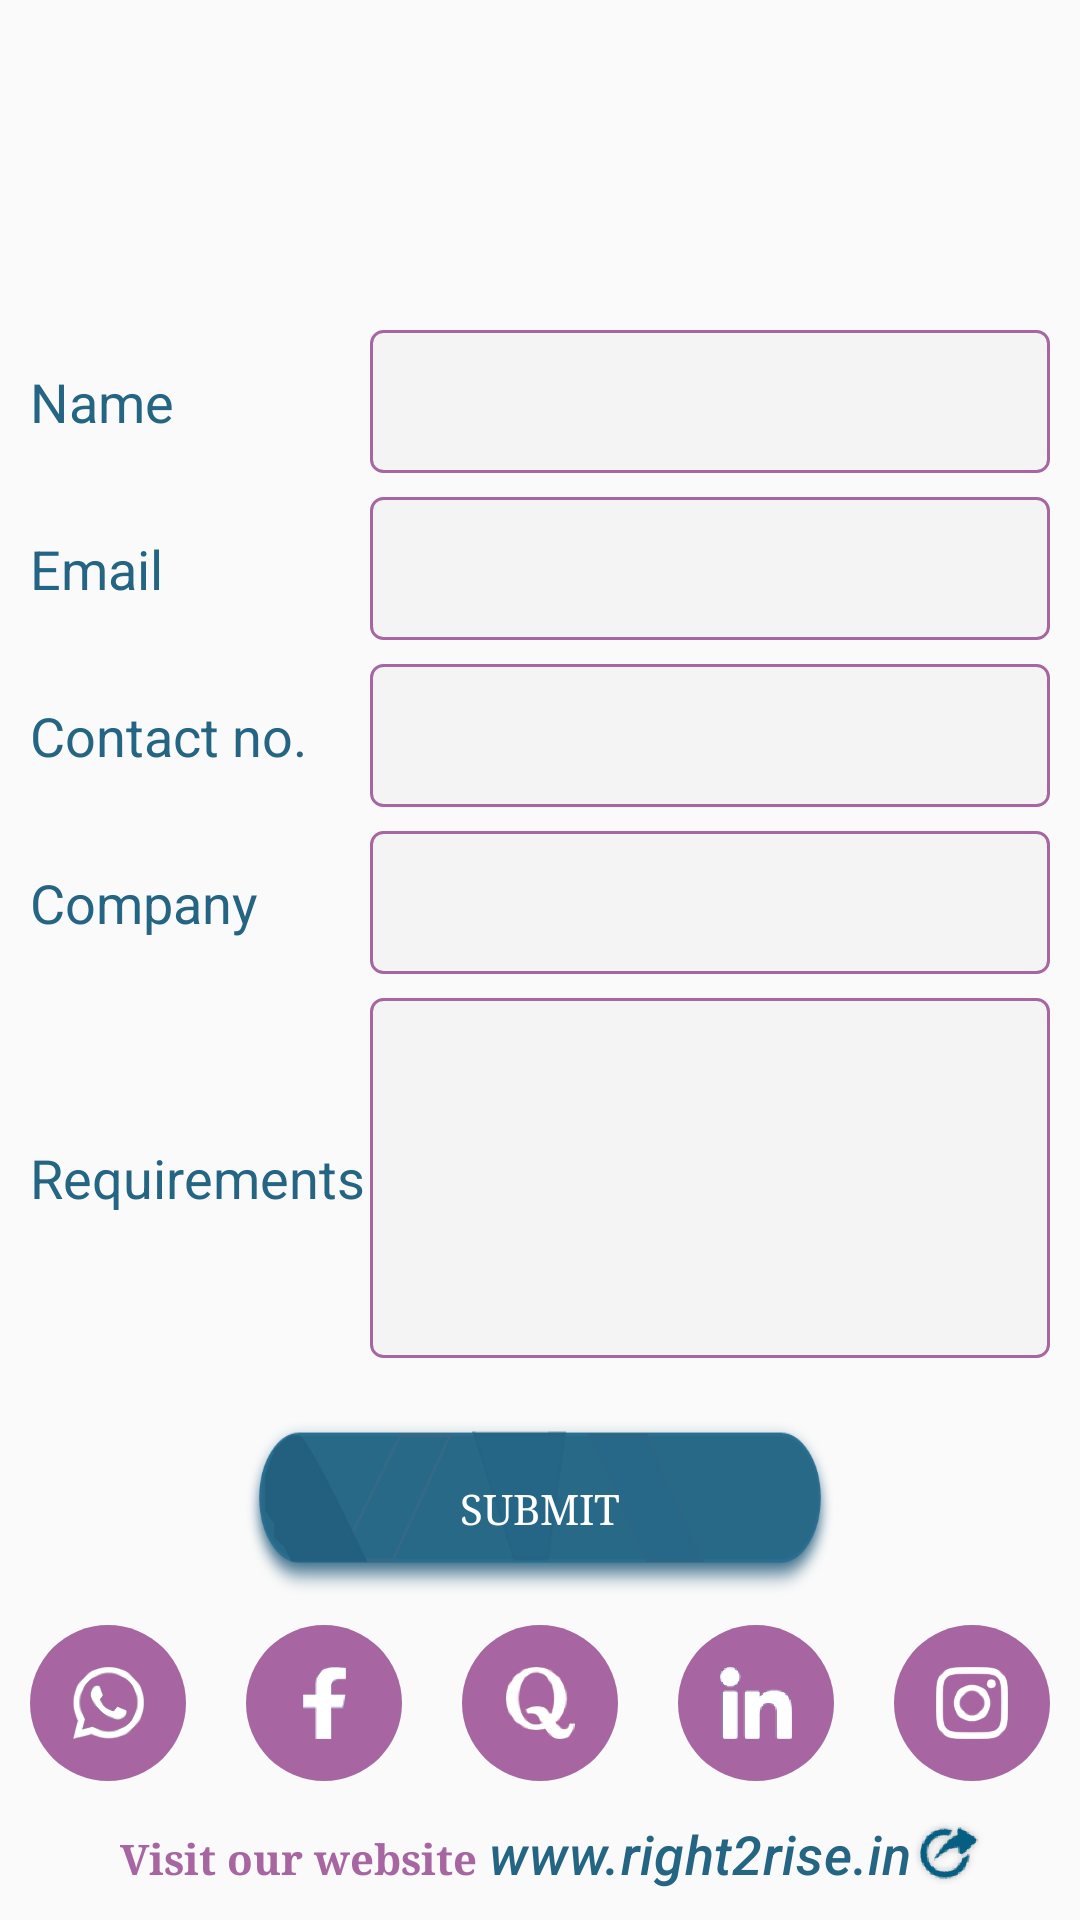

Screen size 1080 x 1920. Icon name, then its box in pixels as (left=x1, top=y1, right=x2, bottom=y2):
weblink rkt: (left=920, top=1827, right=978, bottom=1879)
